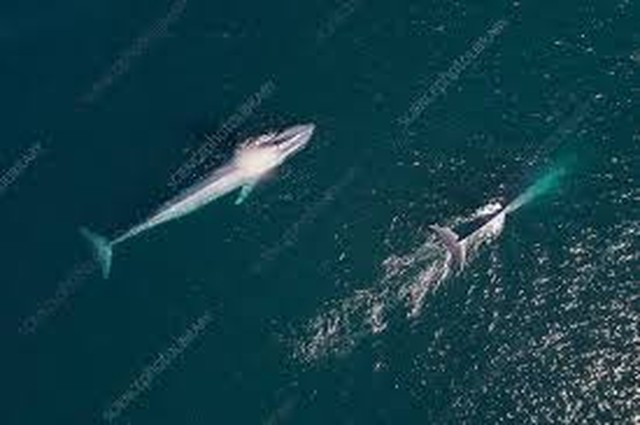whale: (77, 119, 318, 283), (428, 146, 587, 273)
